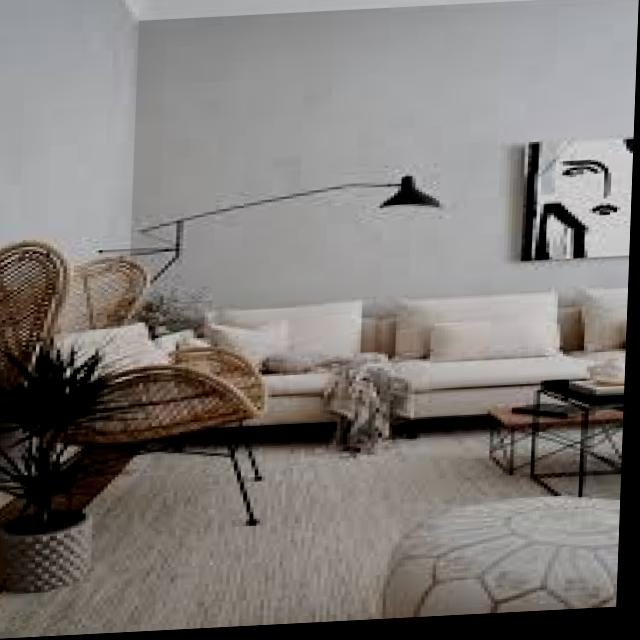noobs: (0, 442, 538, 639)
obs: (0, 237, 270, 534), (172, 292, 630, 453), (0, 342, 120, 592), (392, 502, 621, 618), (533, 366, 629, 511), (488, 408, 627, 481)
